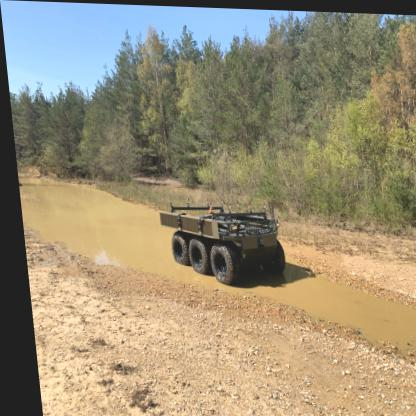UGV: (155, 199, 283, 286)
